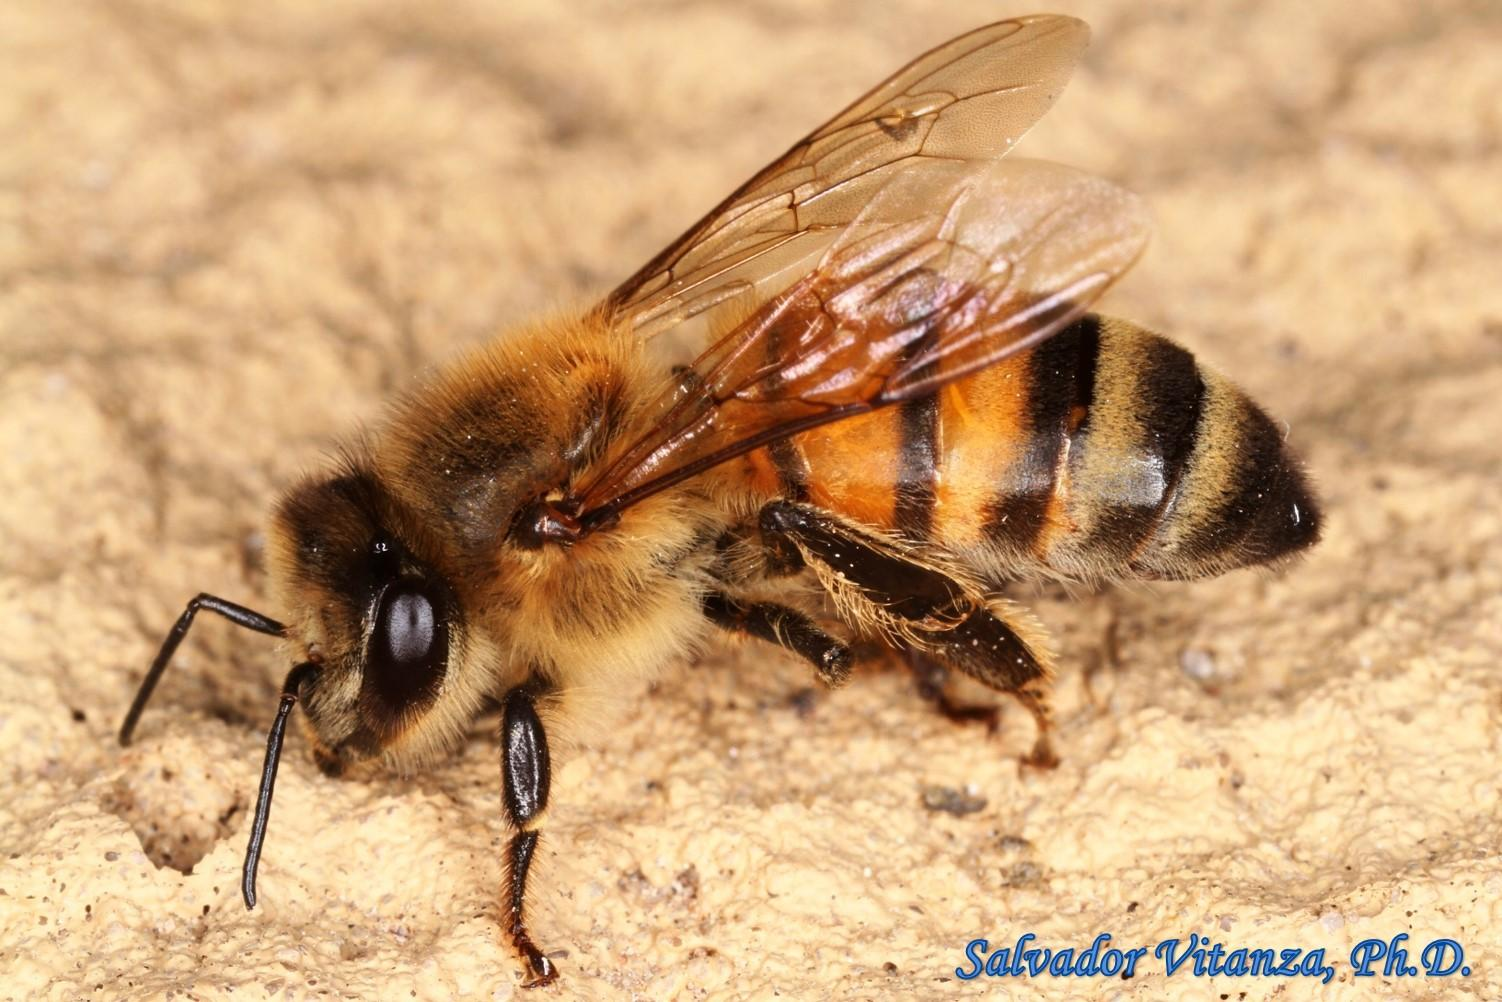Apis-mellifera-scutellata: (135, 0, 1325, 956)
